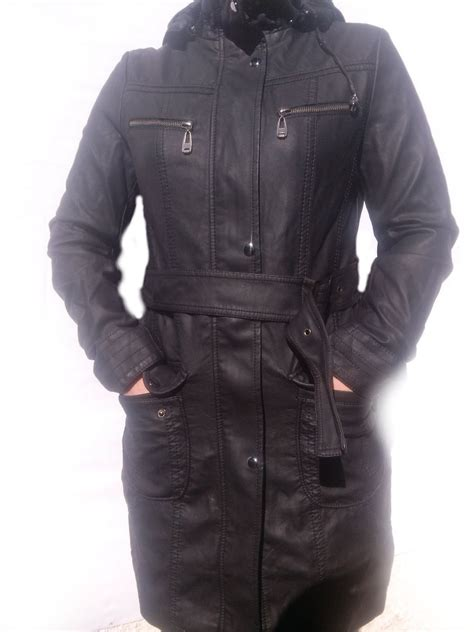cuero: (49, 1, 458, 632)
